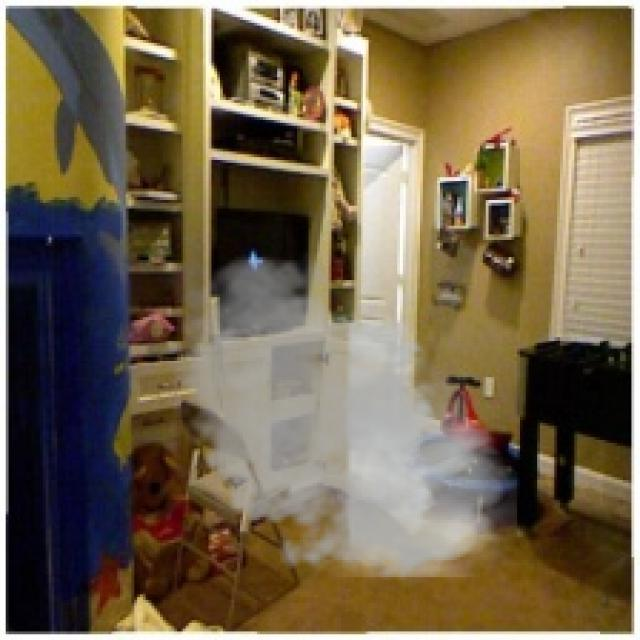smoke: (160, 248, 517, 592)
